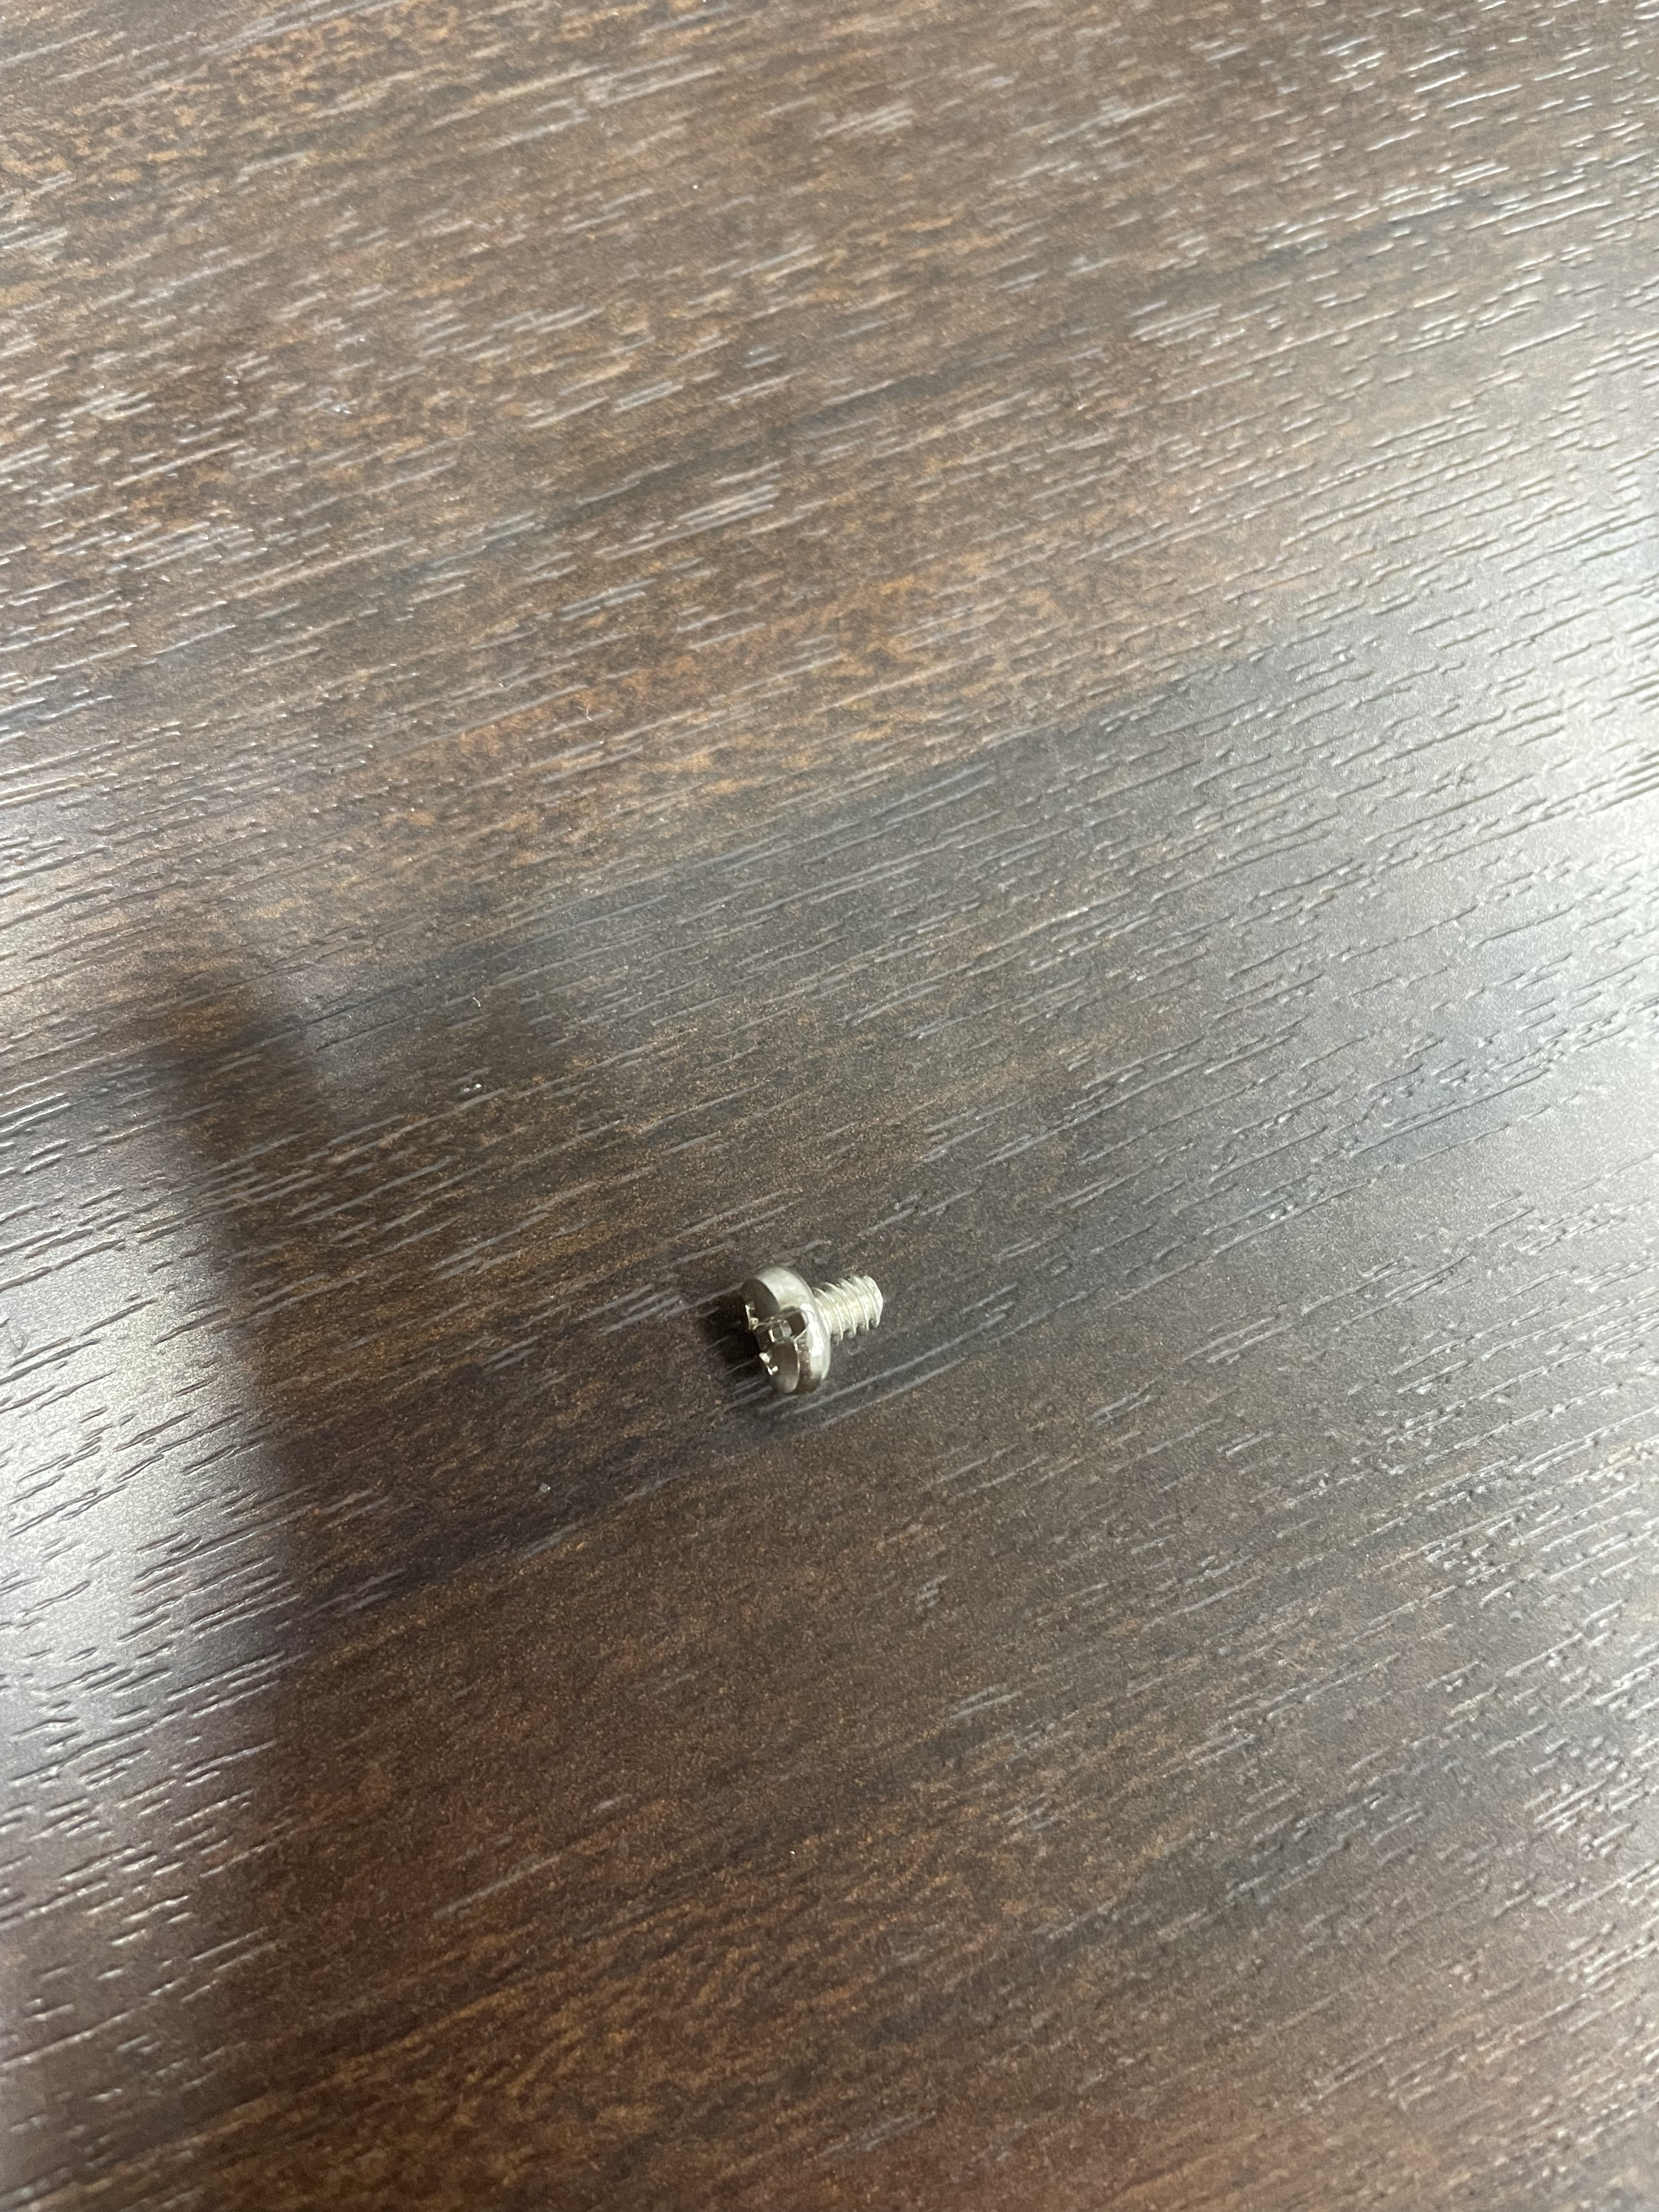screw4: (747, 1259, 882, 1395)
